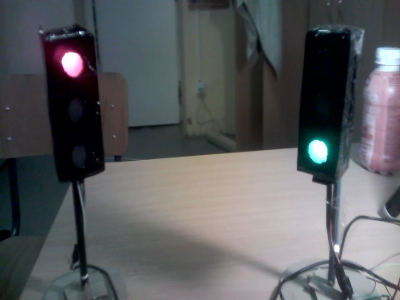trafficlight_green: (300, 36, 346, 173)
trafficlight_red: (48, 38, 97, 171)
